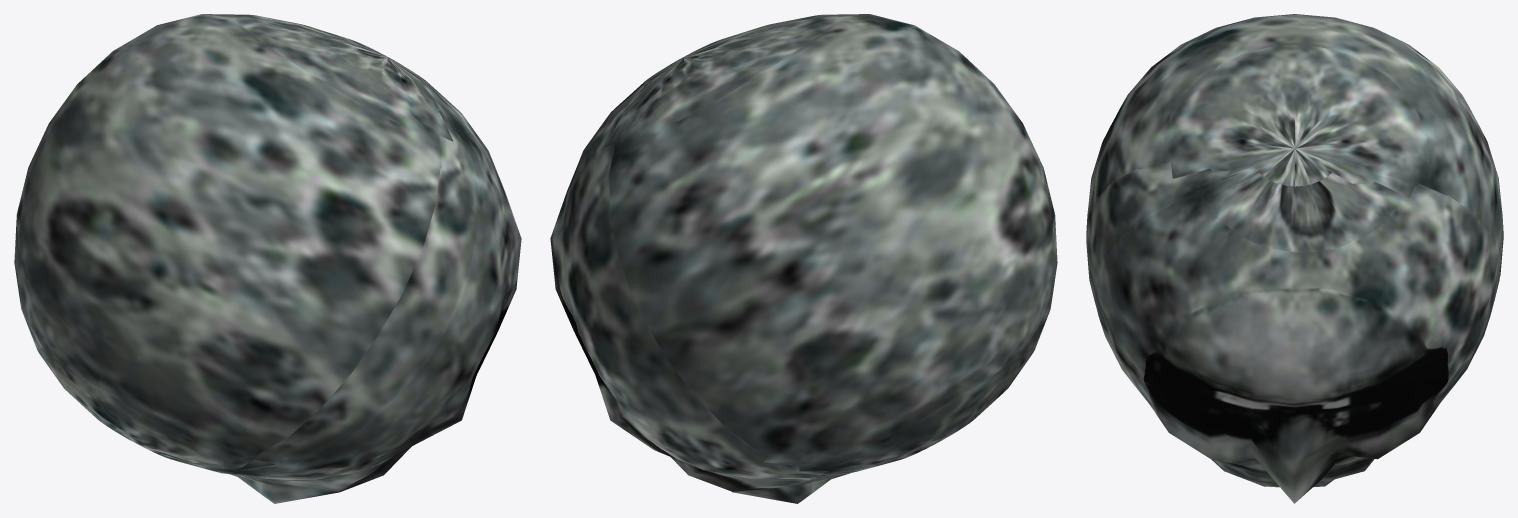
Rendered from vit's mask.fbx.
3 renders of one model, left to right at view 1: azimuth 30°, elevation 25°; view 2: azimuth 150°, elevation 25°; view 3: azimuth 270°, elevation 25°, orthographic. The views are drawn at different scales.
Visible parts, largest first — view 1: Sphere.002; view 2: Sphere.002; view 3: Sphere.002.
Boxes of the visible parts, x1,y1,x2,y2 form: Sphere.002: [14, 14, 521, 503]; Sphere.002: [550, 14, 1057, 503]; Sphere.002: [1086, 14, 1503, 503].
Size of the model in its own units: 209 by 213 by 189.
2 materials, 2 textured.
